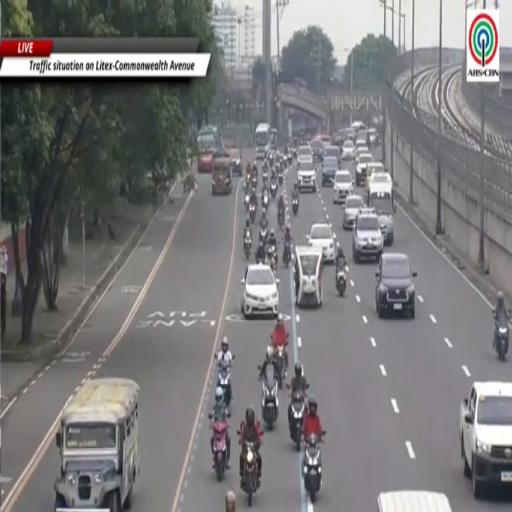bus: (197, 125, 221, 172), (255, 123, 270, 159)
car: (376, 252, 416, 318), (241, 263, 279, 317), (352, 208, 383, 263), (307, 223, 335, 262), (343, 195, 364, 230), (333, 170, 353, 205), (297, 160, 317, 191), (356, 153, 373, 186), (322, 156, 338, 186), (324, 146, 341, 168), (310, 139, 324, 163), (230, 149, 242, 177), (297, 146, 312, 168), (355, 139, 370, 158), (342, 139, 355, 159), (368, 128, 380, 146), (351, 121, 366, 131)
jeepney: (54, 378, 139, 511), (212, 156, 232, 195)
motorcycle: (303, 436, 321, 503), (289, 391, 305, 451), (212, 422, 228, 482), (261, 377, 278, 429), (217, 361, 232, 407), (493, 319, 509, 361), (274, 342, 288, 389), (336, 266, 347, 296), (267, 246, 277, 271), (283, 242, 291, 268), (244, 235, 251, 260), (270, 182, 278, 200), (249, 204, 256, 224), (259, 228, 267, 245), (262, 190, 269, 209), (278, 207, 284, 229), (292, 198, 299, 216), (244, 194, 250, 211), (278, 171, 283, 185), (252, 175, 257, 188), (262, 169, 267, 182), (262, 178, 267, 189), (288, 153, 293, 164), (293, 149, 297, 157), (237, 431, 239, 435)
truck: (460, 381, 511, 499), (367, 173, 395, 246)
